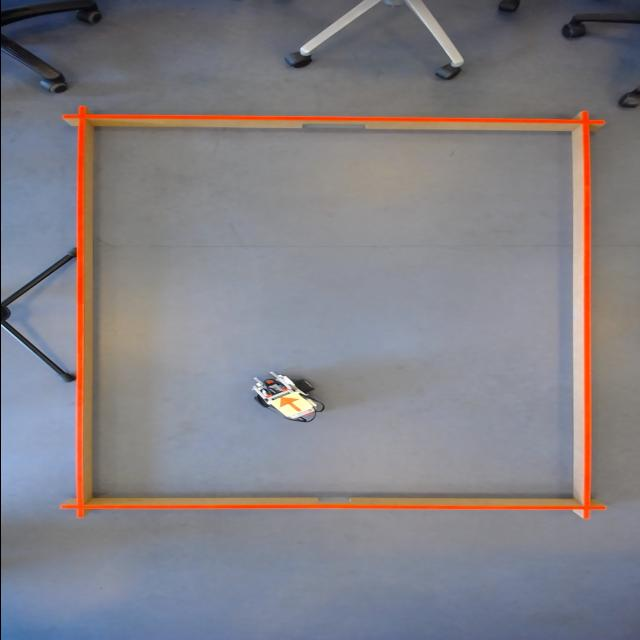robot: (269, 389, 315, 419)
